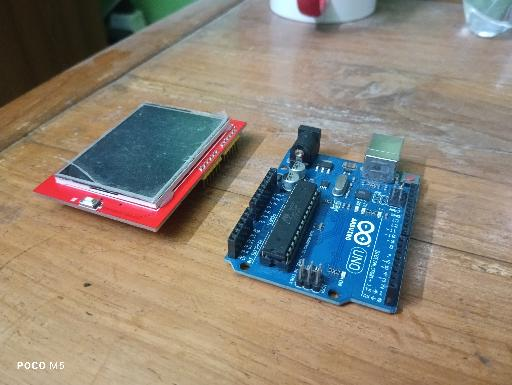Arduino: (225, 124, 421, 315)
Display: (32, 101, 247, 233)
